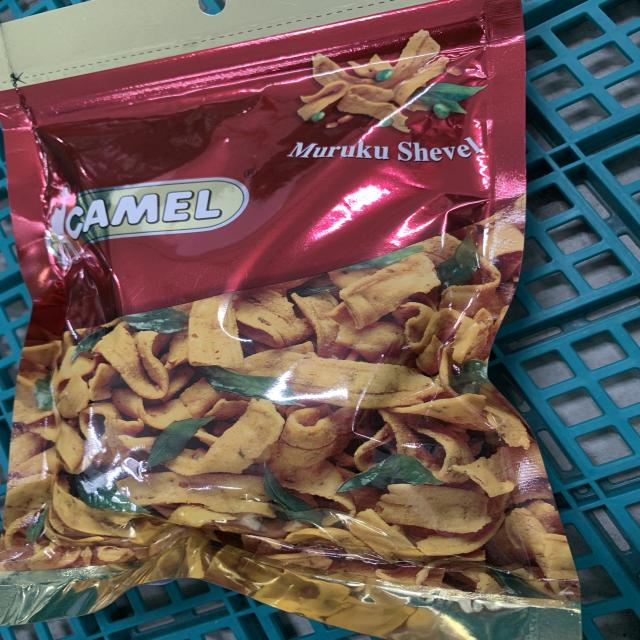object_name: (0, 8, 565, 640)
